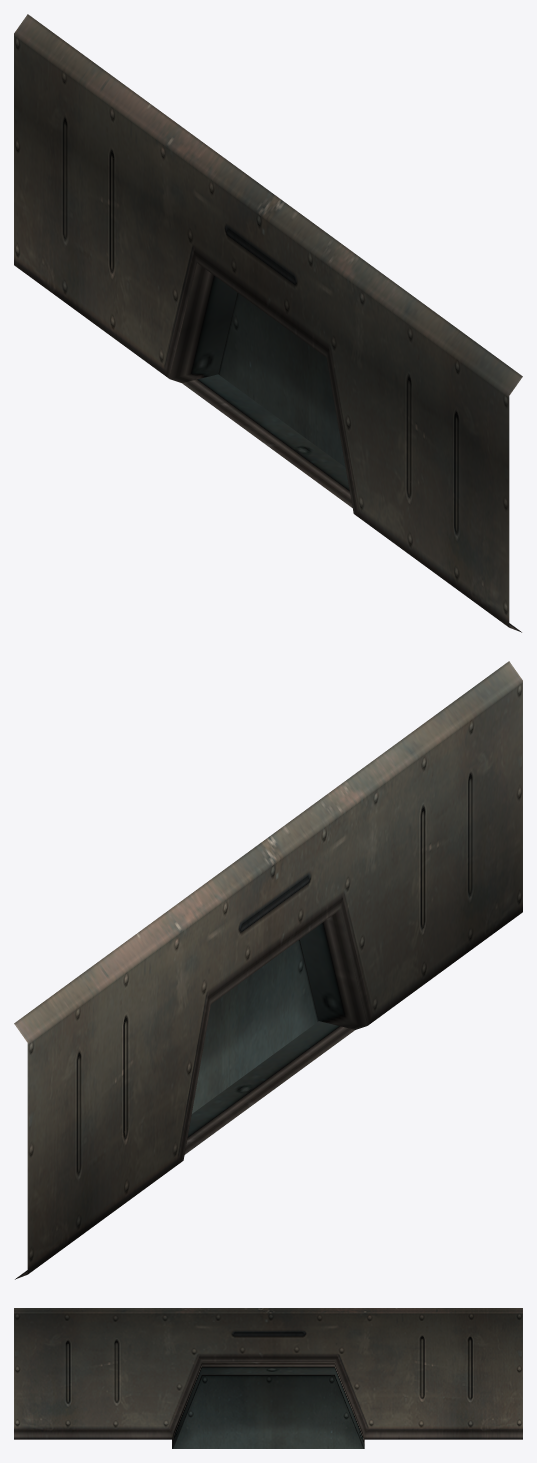
Rendered from mprw_wall_low.FBX.
3 renders of one model, top to bottom at view 1: azimuth 30°, elevation 25°; view 2: azimuth 150°, elevation 25°; view 3: azimuth 270°, elevation 25°, orthographic. The views are drawn at different scales.
Visible parts, largest first — view 1: mprw_wall_low; view 2: mprw_wall_low; view 3: mprw_wall_low.
Boxes of the visible parts, box(x1,y1,x2,y2) form: mprw_wall_low: box(14, 14, 522, 632); mprw_wall_low: box(14, 661, 522, 1279); mprw_wall_low: box(14, 1308, 522, 1448).
Bounding box in the file's own units: 41.03 × 200 × 700.
Materials: 1 (1 with a texture image).
